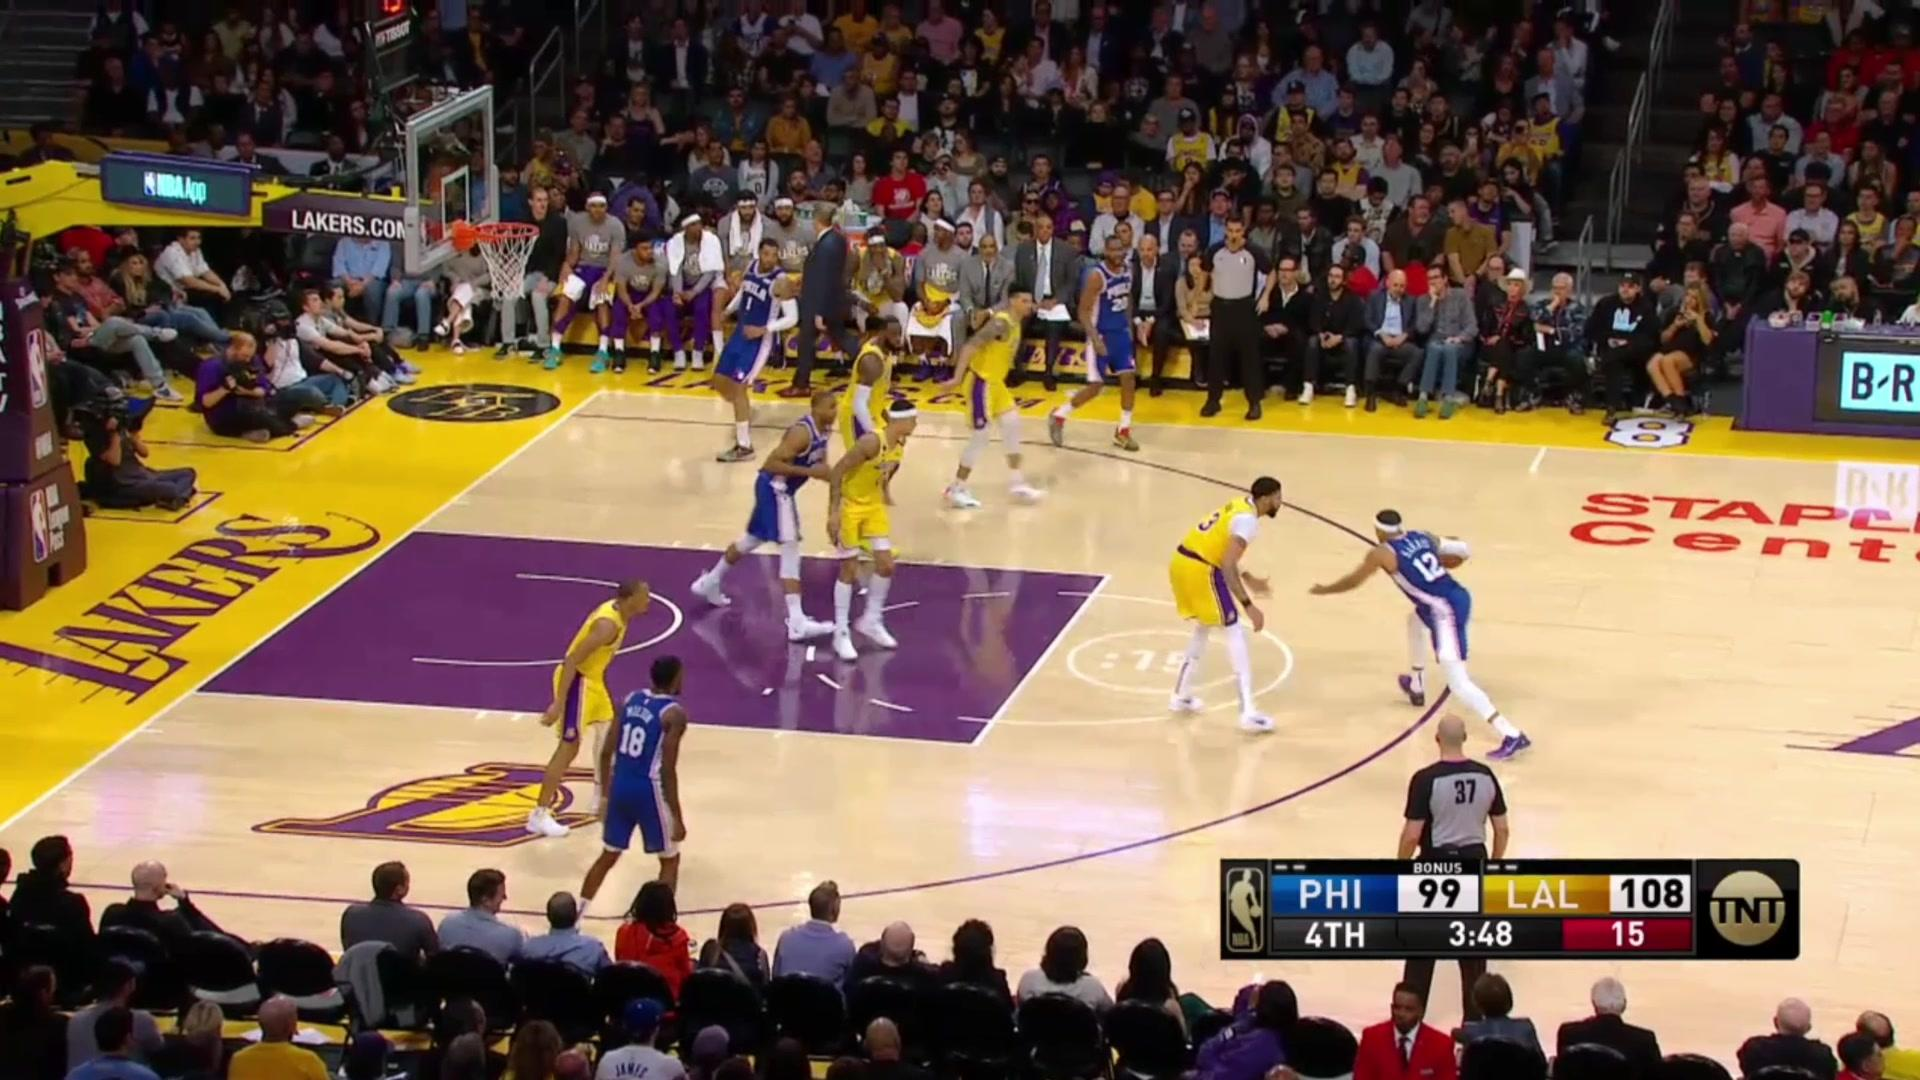no_foul: (760, 378, 914, 667)
